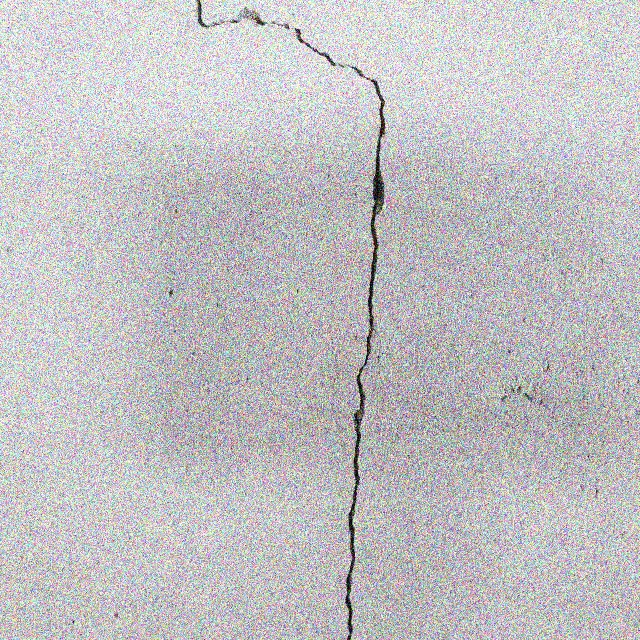SurfaceCrack: (225, 0, 423, 640)
